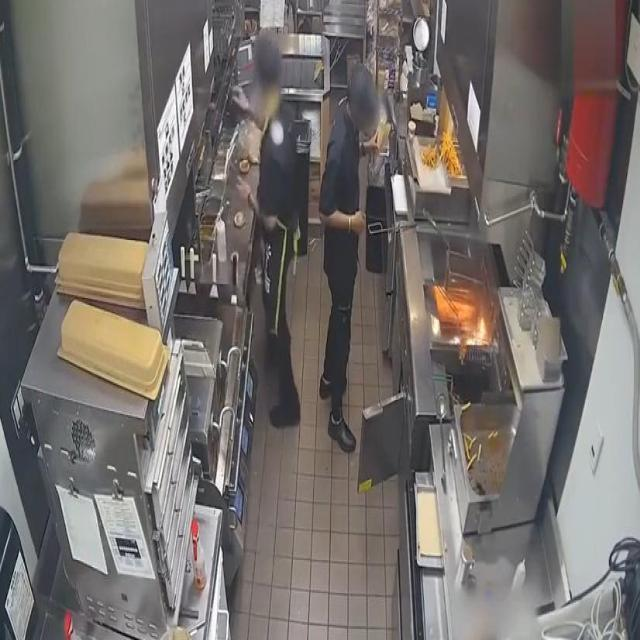smoke: (466, 310, 490, 345)
